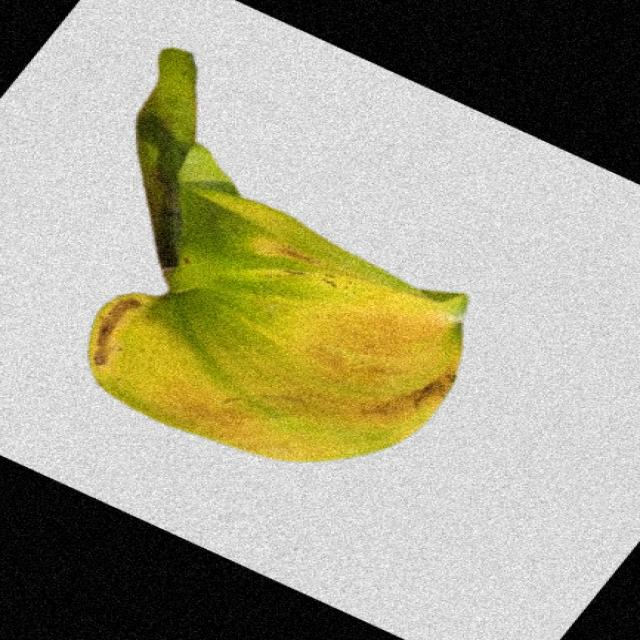daun berpenyakit kuning: (88, 49, 466, 461)
